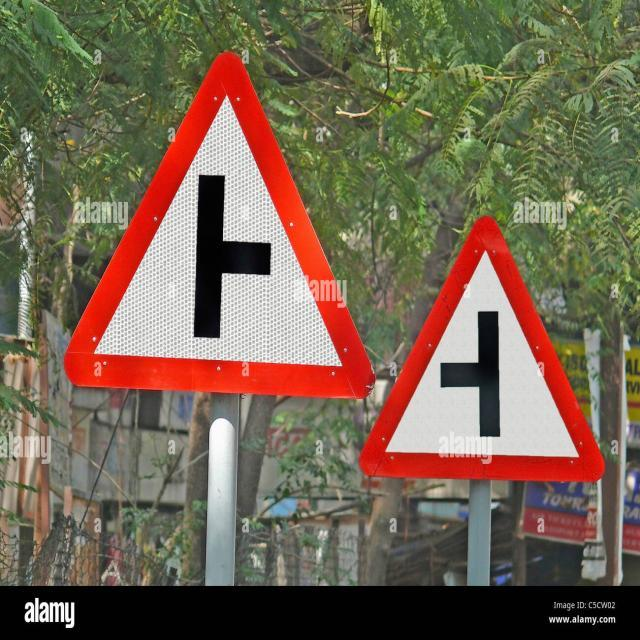side road right: (59, 43, 376, 407)
